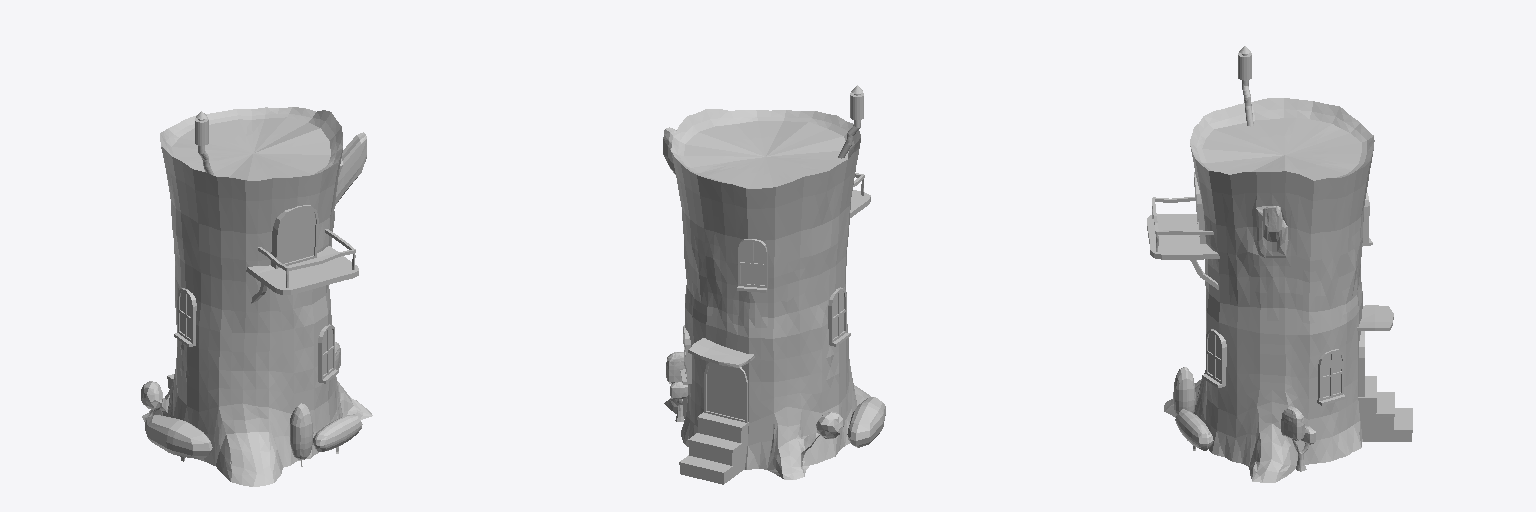
Rendered from treehouse.obj.
3 renders of one model, left to right at view 1: azimuth 30°, elevation 25°; view 2: azimuth 150°, elevation 25°; view 3: azimuth 270°, elevation 25°, orthographic.
Visible parts, largest first — view 1: treehouse; view 2: treehouse; view 3: treehouse.
Part boxes in pixels (left/top/right/bottom): treehouse: left=141, top=107, right=372, bottom=486; treehouse: left=663, top=85, right=885, bottom=484; treehouse: left=1147, top=46, right=1412, bottom=482.
Size of the model in its own units: 6.04 by 9.54 by 6.54.